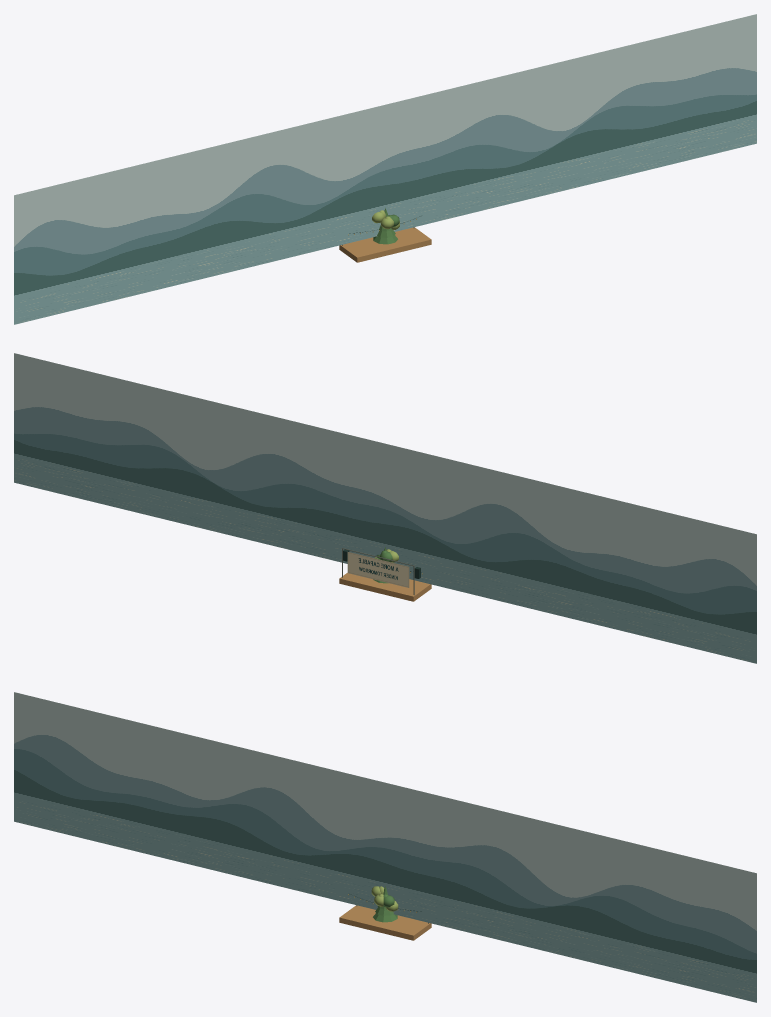
File: world_dressing.glb
3 views of the same model, one above another, from view 1: azimuth 30°, elevation 25°; view 2: azimuth 150°, elevation 25°; view 3: azimuth 330°, elevation 25° (orthographic).
Parts seen in each view (by area): view 1: distant_landscape, stage_deck; view 2: distant_landscape, stage_banner, stage_deck; view 3: distant_landscape, stage_deck.
Boxes of the visible parts, <box> form: distant_landscape: <box>14,14,756,324</box>; stage_deck: <box>339,227,431,262</box>; distant_landscape: <box>14,353,756,663</box>; stage_banner: <box>347,552,409,587</box>; stage_deck: <box>339,573,431,601</box>; distant_landscape: <box>14,692,756,1002</box>; stage_deck: <box>339,905,431,940</box>.
Size of the model in its own units: 120 by 22 by 5.
Materials: 10 (2 with a texture image).
